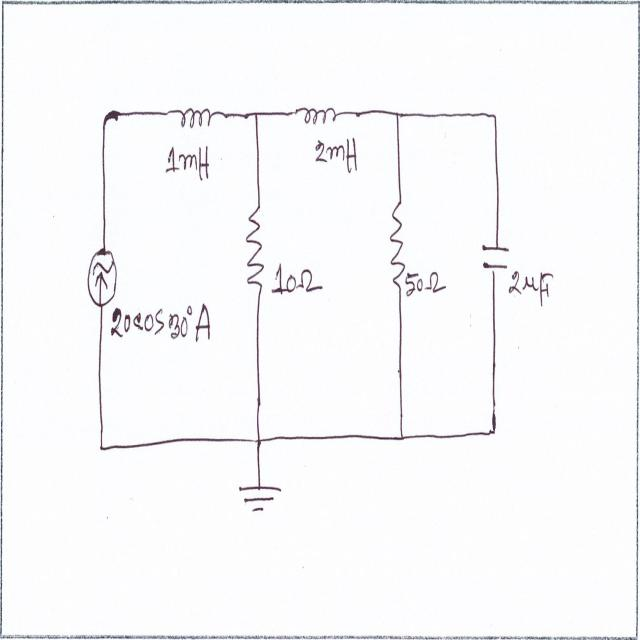capacitor: (479, 236, 512, 281)
current_source: (86, 243, 119, 310)
ground: (236, 480, 286, 521)
inductor: (166, 88, 229, 135), (294, 98, 341, 138)
resistor: (244, 199, 268, 295), (387, 195, 408, 292)
